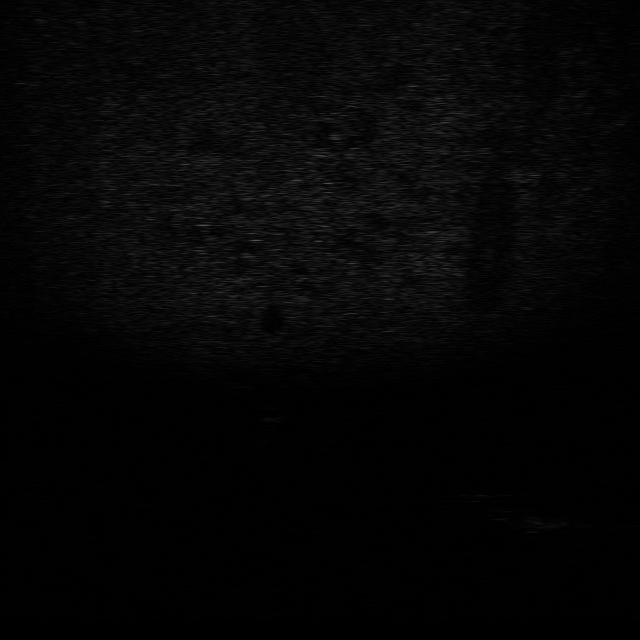ball: (258, 404, 288, 423)
metal bucket: (509, 511, 570, 536)
tyre: (468, 491, 522, 524)
